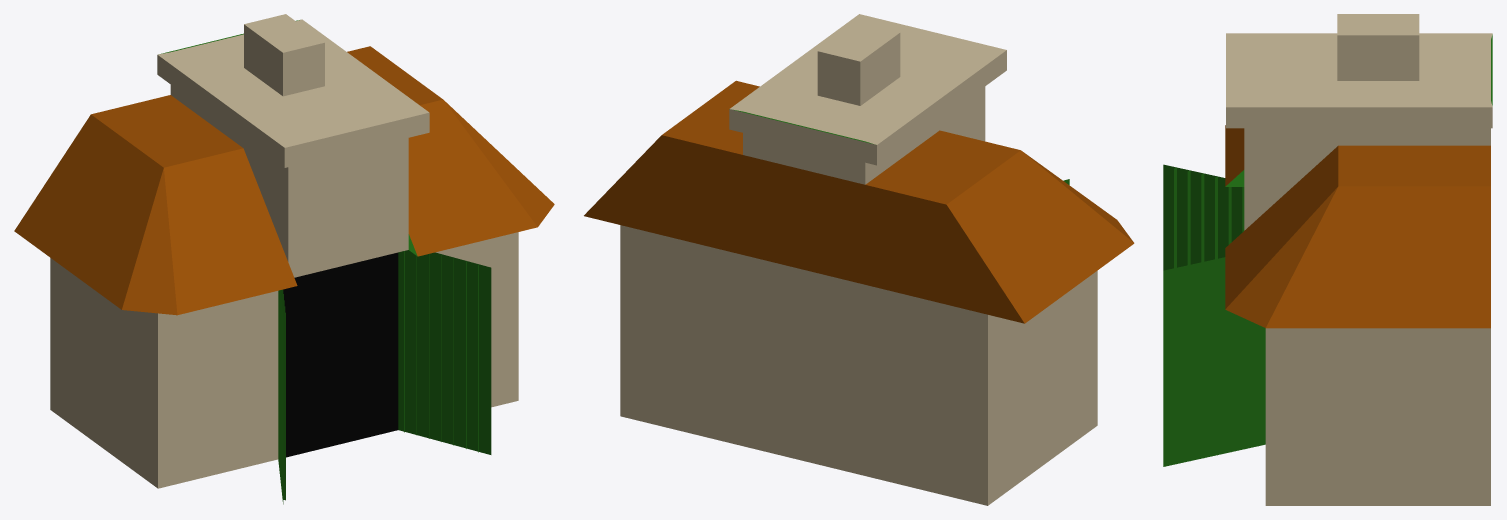
File: RedLightGreenLight_Asset_House.glb
3 renders of one model, left to right at view 1: azimuth 30°, elevation 25°; view 2: azimuth 150°, elevation 25°; view 3: azimuth 270°, elevation 25°, orthographic. The views are drawn at different scales.
Parts seen in each view (by area): view 1: starting point; view 2: starting point; view 3: starting point.
Part boxes in pixels (bbox=[...]): starting point: bbox=[14, 14, 554, 504]; starting point: bbox=[584, 14, 1134, 505]; starting point: bbox=[1163, 14, 1492, 505].
Size of what is drawn, in the model's own units: 9.66 by 7.95 by 6.09.
